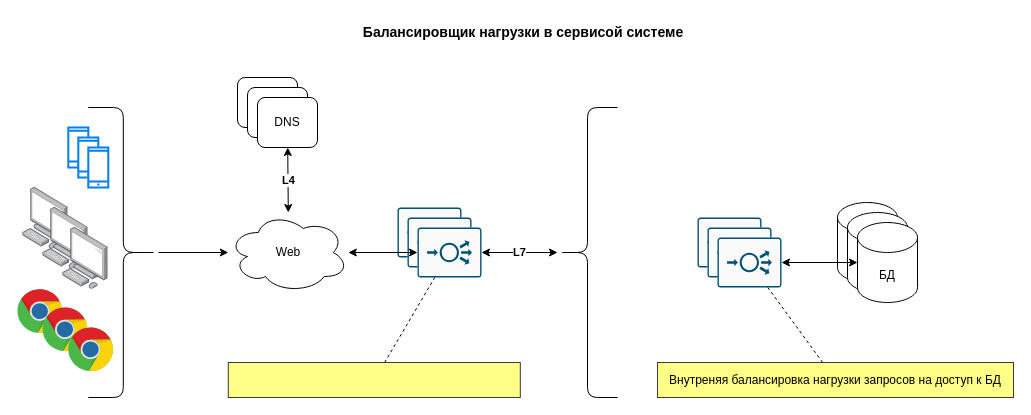
Image size: 1031x415. Some labels were removed from this diagram. Each missing label, with the box of its shape:
Внешняя балансировка запросов пользователей: (227, 362, 520, 398)
ВНУТРЕННИЙ КОНТУР СИСТЕМЫ: (556, 106, 618, 398)
запросы клиентов: (87, 106, 158, 398)
